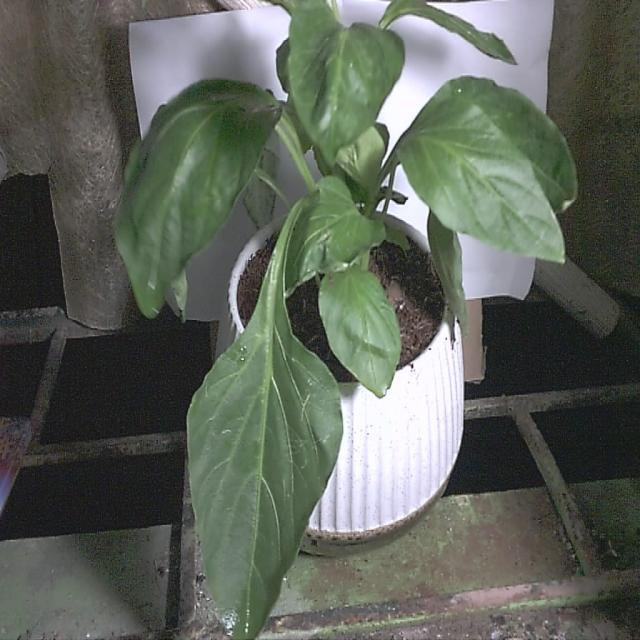Leaf: (186, 270, 344, 640), (114, 78, 283, 317), (396, 76, 578, 264), (288, 2, 407, 168), (318, 256, 402, 399)
